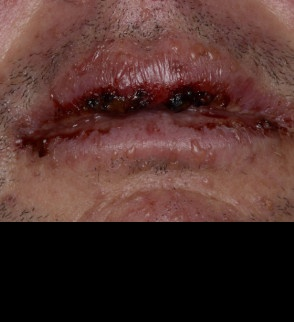SJS-TEN: (3, 32, 294, 191)
